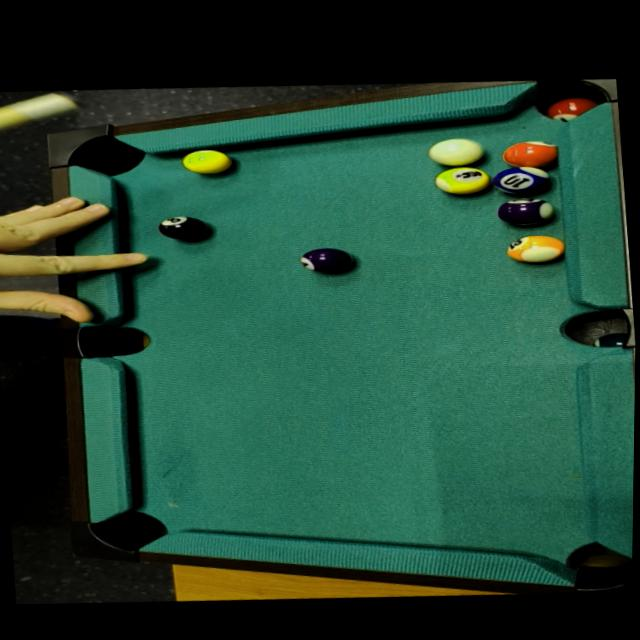cue ball: (422, 131, 484, 174)
other: (424, 160, 500, 201), (487, 157, 554, 202), (498, 133, 566, 177), (500, 231, 567, 272), (499, 192, 555, 231), (296, 242, 354, 279), (179, 143, 234, 179), (152, 209, 206, 245)
